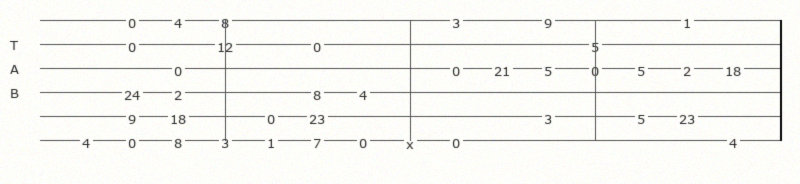0: (128, 38, 140, 51), (128, 14, 140, 27), (128, 134, 140, 147), (174, 62, 186, 75), (267, 110, 279, 123), (313, 38, 325, 51), (359, 134, 371, 147), (452, 134, 464, 147), (452, 62, 464, 75), (591, 62, 603, 75)
1: (267, 134, 279, 147), (683, 14, 695, 27)
12: (217, 38, 237, 51)
18: (170, 110, 190, 123), (725, 62, 745, 75)
2: (174, 86, 186, 99), (683, 62, 695, 75)
21: (494, 62, 514, 75)
23: (309, 110, 329, 123), (679, 110, 699, 123)
24: (124, 86, 144, 99)
3: (221, 134, 233, 147), (452, 14, 464, 27), (544, 110, 556, 123)
4: (82, 134, 94, 147), (174, 14, 186, 27), (359, 86, 371, 99), (729, 134, 741, 147)
5: (544, 62, 556, 75), (591, 38, 603, 51), (637, 110, 649, 123), (637, 62, 649, 75)
7: (313, 134, 325, 147)
8: (174, 134, 186, 147), (221, 14, 233, 27), (313, 86, 325, 99)
9: (128, 110, 140, 123), (544, 14, 556, 27)
x: (406, 135, 418, 146)
